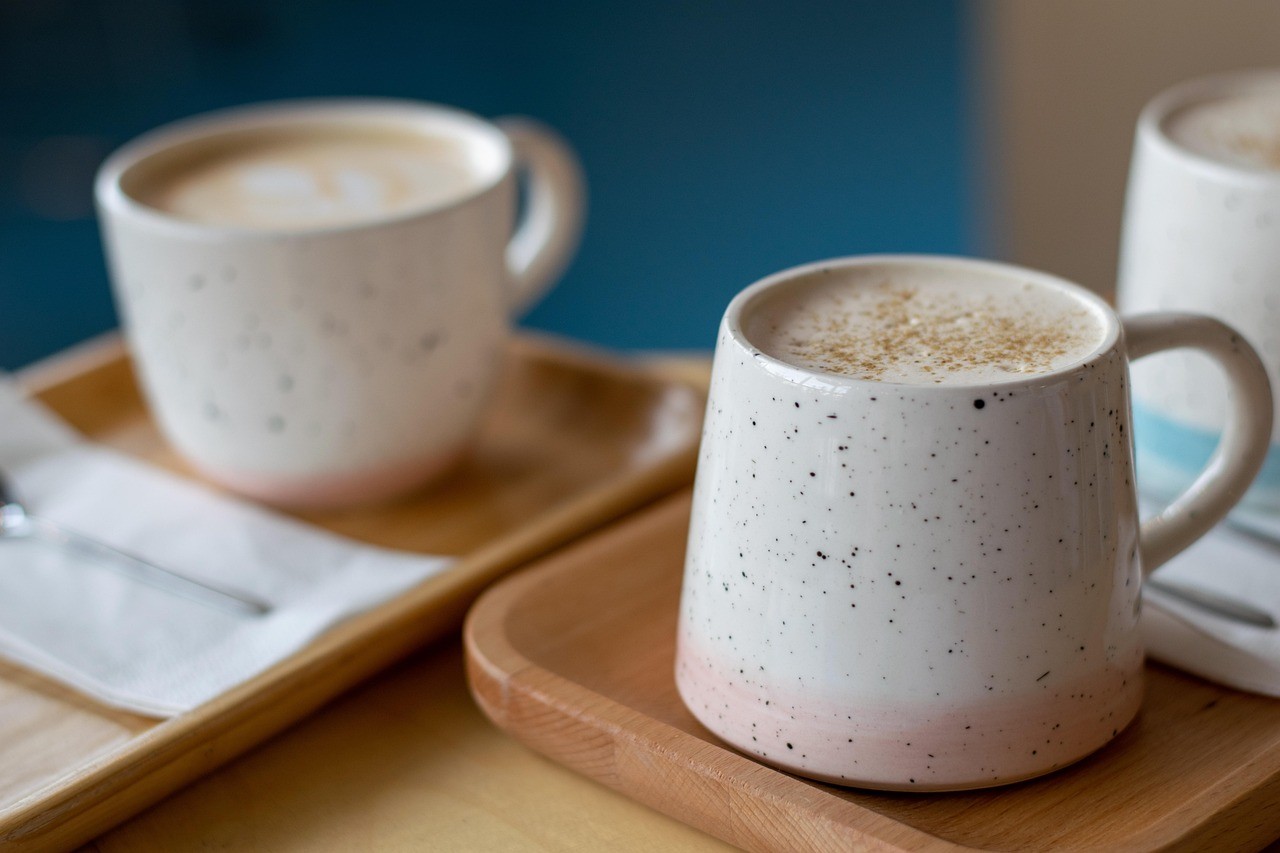mug: (691, 231, 1280, 760), (82, 100, 628, 600)
